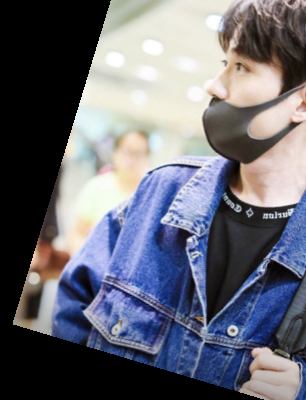mask_weared_incorrect: (190, 3, 306, 166)
